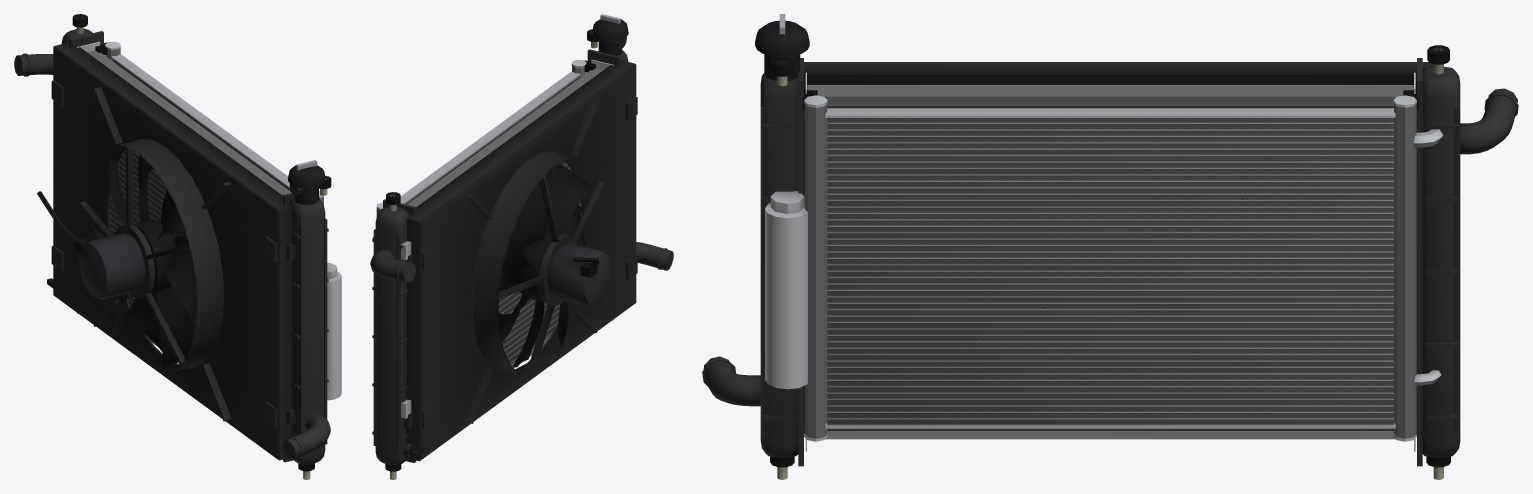
The model's file is radiator-lo-v1.glb.
The picture shows the model from 3 angles, left to right: view 1: azimuth 30°, elevation 25°; view 2: azimuth 150°, elevation 25°; view 3: azimuth 270°, elevation 25°; orthographic projection. The views are drawn at different scales.
Parts seen in each view (by area): view 1: shroud_geo, tank_R_geo, fan_geo, condenser_geo, core_geo, fan_motor_geo, neck_lower_geo, neck_upper_geo, cap_geo, tank_L_geo; view 2: shroud_geo, tank_L_geo, fan_geo, core_geo, fan_motor_geo, condenser_geo, neck_upper_geo, neck_lower_geo, tank_R_geo, cap_geo, mount_L_geo; view 3: condenser_geo, core_geo, tank_L_geo, shroud_geo, tank_R_geo, neck_upper_geo, neck_lower_geo, cap_geo, mount_L_geo, mount_R_geo.
Boxes of the visible parts, x1,y1,x2,y2 form: shroud_geo: [51, 42, 292, 460]; tank_R_geo: [283, 183, 328, 464]; fan_geo: [91, 155, 196, 364]; condenser_geo: [95, 41, 341, 400]; core_geo: [77, 41, 291, 346]; fan_motor_geo: [37, 191, 145, 299]; neck_lower_geo: [283, 413, 330, 459]; neck_upper_geo: [14, 53, 53, 76]; cap_geo: [288, 160, 325, 187]; tank_L_geo: [61, 28, 103, 48]; shroud_geo: [406, 60, 637, 461]; tank_L_geo: [372, 199, 416, 465]; fan_geo: [498, 164, 592, 367]; core_geo: [407, 59, 613, 367]; fan_motor_geo: [547, 243, 611, 306]; condenser_geo: [372, 59, 595, 418]; neck_upper_geo: [370, 249, 415, 282]; neck_lower_geo: [636, 242, 673, 270]; tank_R_geo: [587, 37, 628, 65]; cap_geo: [592, 14, 628, 40]; mount_L_geo: [385, 192, 401, 479]; condenser_geo: [765, 90, 1443, 441]; core_geo: [805, 72, 1415, 451]; tank_L_geo: [1417, 58, 1460, 466]; shroud_geo: [804, 62, 1433, 433]; tank_R_geo: [760, 54, 803, 466]; neck_upper_geo: [1460, 88, 1518, 154]; neck_lower_geo: [702, 356, 760, 406]; cap_geo: [755, 14, 809, 56]; mount_L_geo: [1426, 45, 1450, 479]; mount_R_geo: [770, 57, 794, 479].
Size of the model in its own units: 0.271 by 0.534 by 0.8647.
14 materials, 5 textured.
